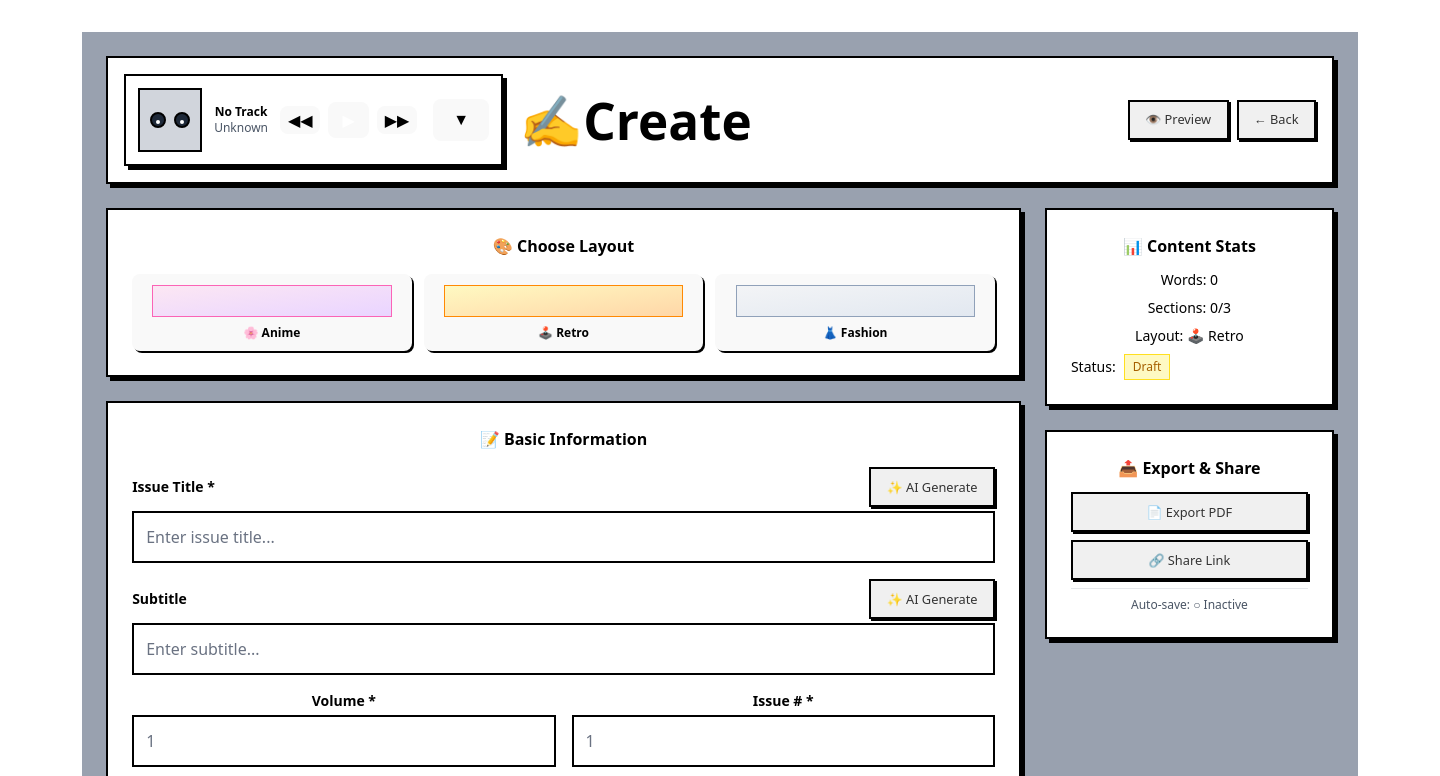
Test case: issueEditor component › Form Validation › shows error when volume is not a positive number
Expected: the heading "✍️Create" is shown, [519,85,752,155]
In the field with placeholder "Enter issue title...": (564, 537) [132,511,995,563], type "Test Title"
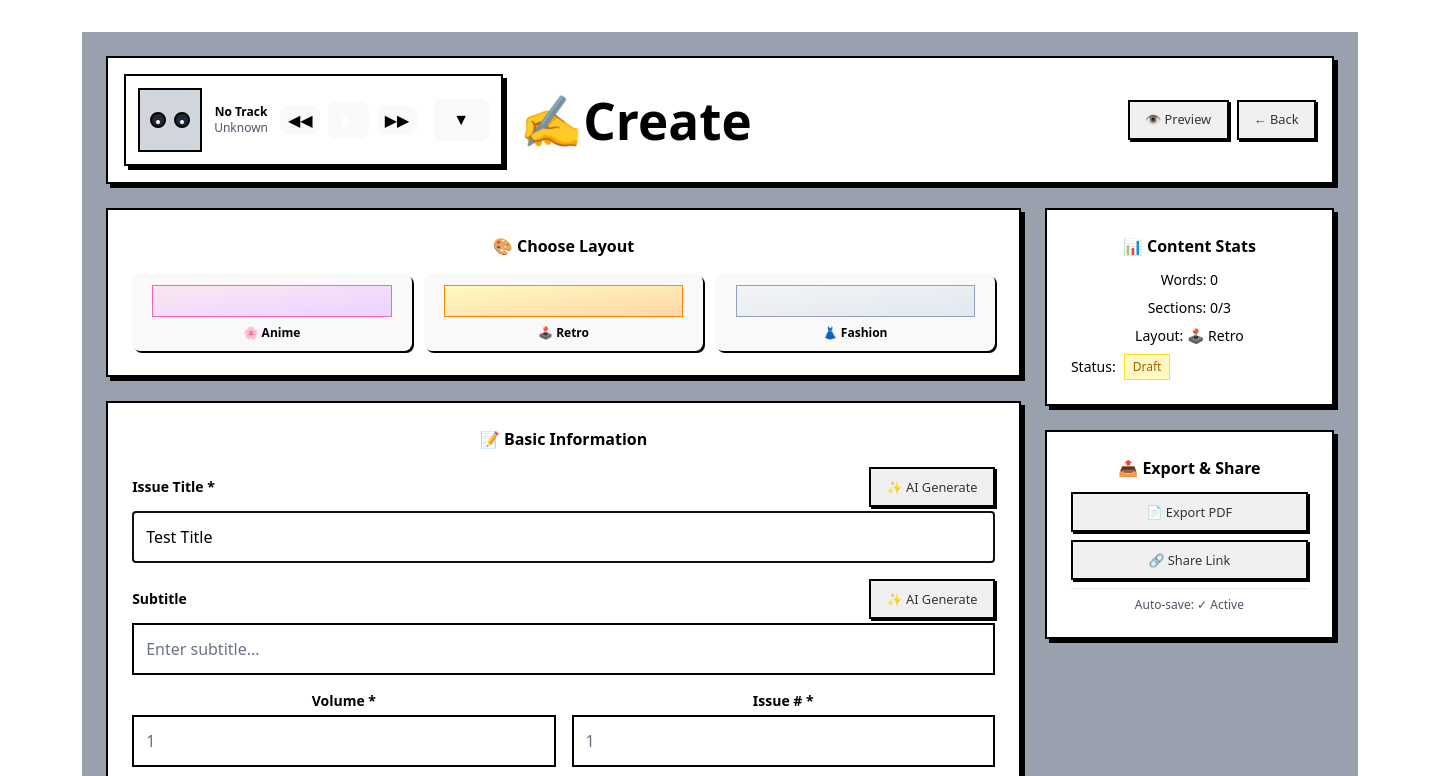
In the number field with placeholder "1" below "Volume *": (344, 741) [132,715,556,767], type "-1"
(page scrolled)
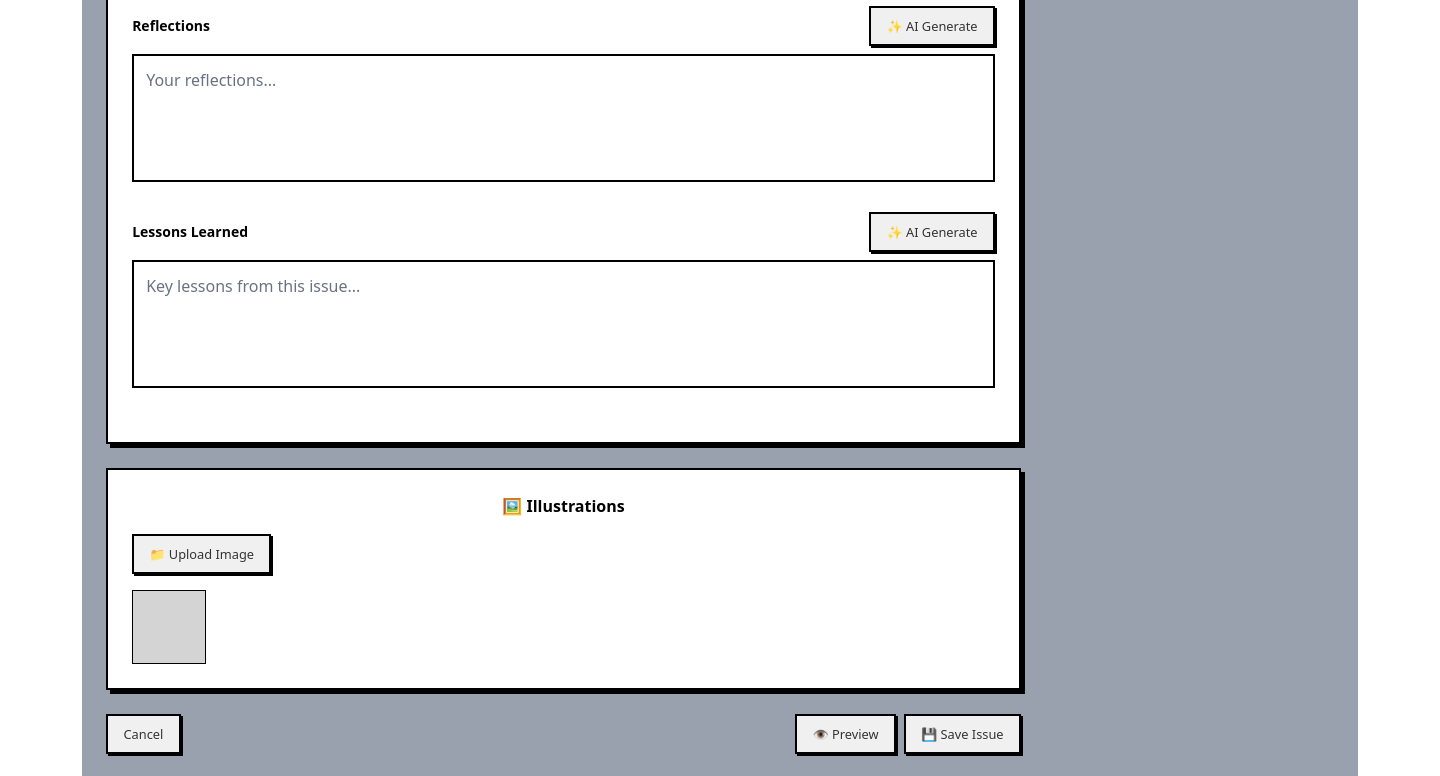
Click the button "💾 Save Issue": (962, 734) [904,714,1021,754]
(page scrolled)
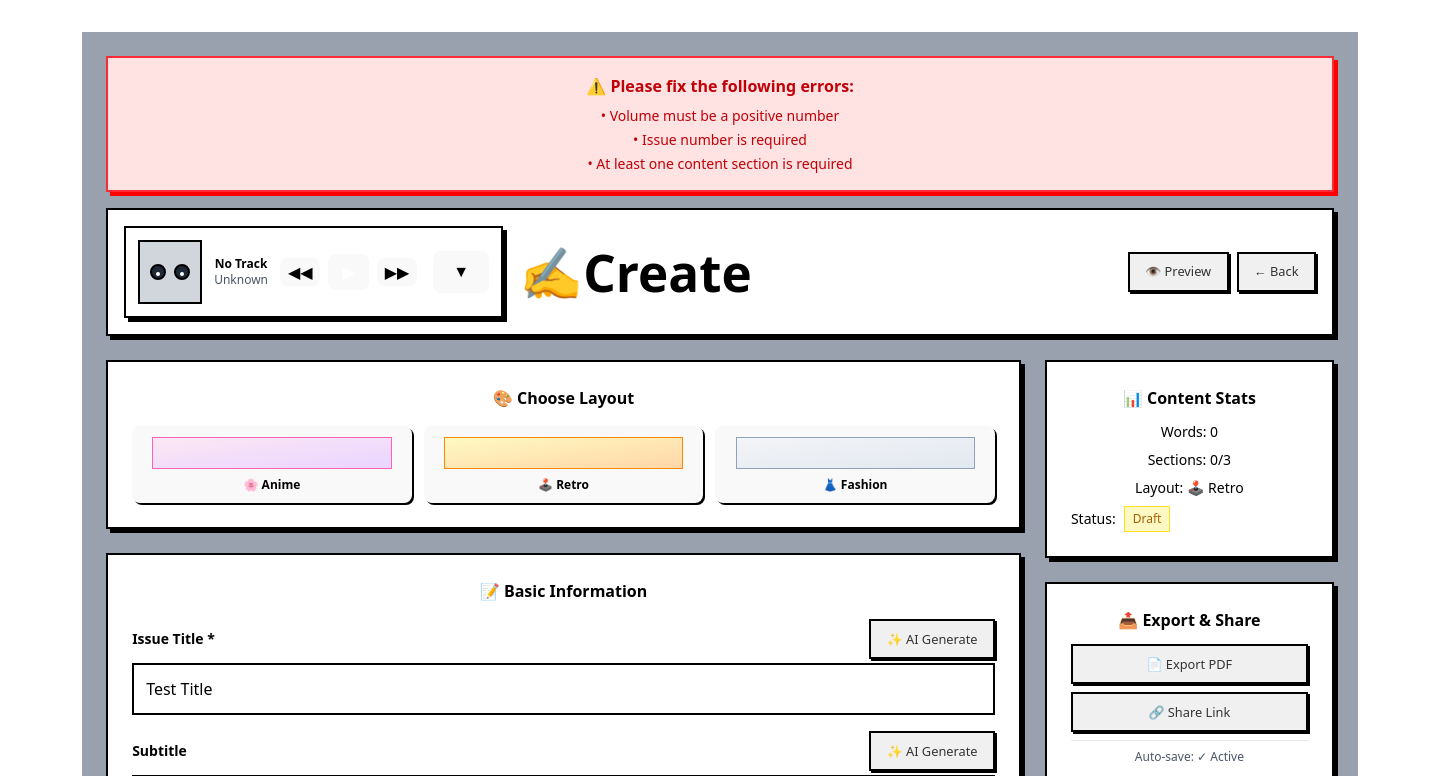
Expected: the list item "• Volume must be a positive number" is shown, [601,106,839,125]
